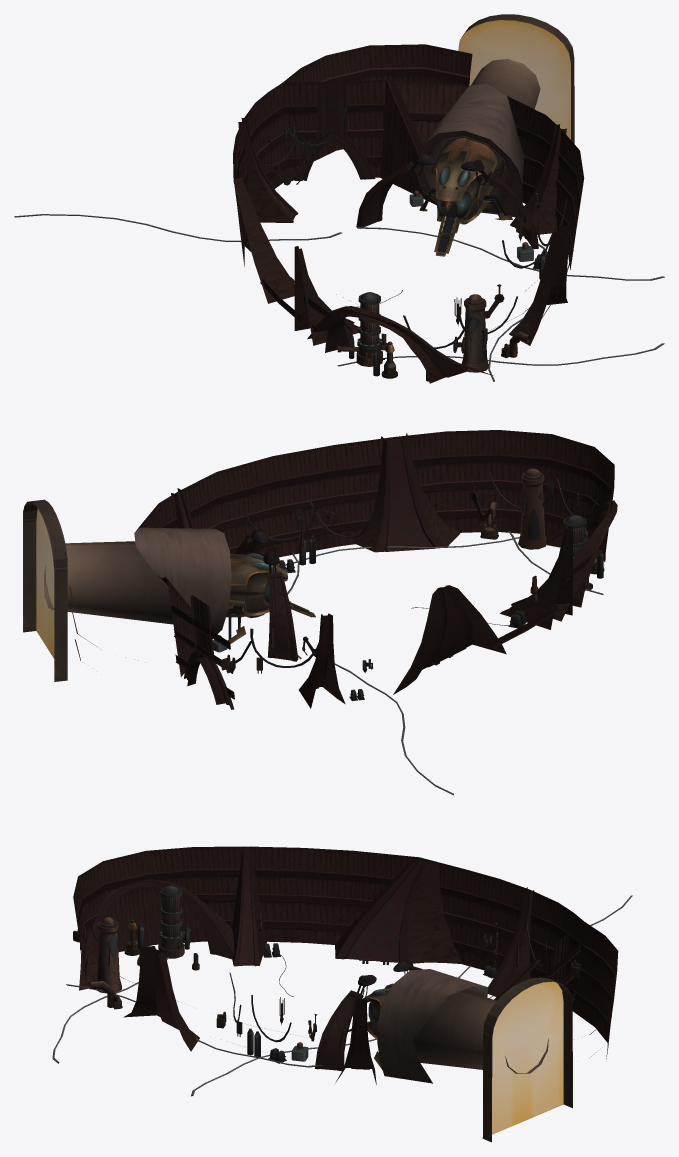
File: env_geo_dooku_hangar_pre.glb
3 renders of one model, top to bottom at view 1: azimuth 30°, elevation 25°; view 2: azimuth 150°, elevation 25°; view 3: azimuth 270°, elevation 25°, orthographic. The views are drawn at different scales.
Parts seen in each view (by area): view 1: geo_dooku_walls_mesh, geo_dooku_tunnel_mesh, cor_jt_archplug_mesh (1), geo_solarsail_back_mesh, env_geo_doo_pillar_01d_mesh, geo_dooku_arch_01_mesh, env_geo_doo_pillar_01b_mesh, geo_dooku_arch_02_mesh, env_geo_doo_pillar_01e_mesh, env_geo_doo_pillar_01a_mesh, env_geo_doo_pillar_01f_mesh, env_geo_doo_pillar_01c_mesh (+6 smaller); view 2: geo_dooku_walls_mesh, geo_dooku_tunnel_mesh, cor_jt_archplug_mesh (1), env_geo_doo_pillar_01e_mesh, env_geo_doo_pillar_01b_mesh, geo_solarsail_back_mesh, geo_dooku_arch_02_mesh, env_geo_doo_pillar_01c_mesh, env_geo_doo_pillar_01d_mesh, geo_dooku_arch_01_mesh, geo_dooku_misc_14_mesh (1) (×2), env_geo_doo_pillar_01a_mesh (+3 smaller); view 3: geo_dooku_walls_mesh, cor_jt_archplug_mesh (1), geo_dooku_tunnel_mesh, env_geo_doo_pillar_01b_mesh, env_geo_doo_pillar_01d_mesh, env_geo_doo_pillar_01e_mesh, env_geo_doo_pillar_01c_mesh, geo_dooku_arch_02_mesh, env_geo_doo_pillar_01a_mesh, geo_dooku_generator_01_mesh, geo_dooku_misc_19_mesh, env_geo_doo_pillar_01f_mesh (+4 smaller).
Part boxes in pixels (box(x1,y1,x2,y2)): geo_dooku_walls_mesh: box(233, 44, 584, 333); geo_dooku_tunnel_mesh: box(414, 59, 540, 217); cor_jt_archplug_mesh (1): box(458, 14, 574, 143); geo_solarsail_back_mesh: box(419, 138, 512, 256); env_geo_doo_pillar_01d_mesh: box(307, 306, 493, 383); geo_dooku_arch_01_mesh: box(292, 82, 375, 180); env_geo_doo_pillar_01b_mesh: box(233, 168, 294, 303); geo_dooku_arch_02_mesh: box(356, 152, 538, 249); env_geo_doo_pillar_01e_mesh: box(509, 225, 570, 345); env_geo_doo_pillar_01a_mesh: box(238, 118, 298, 222); env_geo_doo_pillar_01f_mesh: box(510, 124, 566, 236); env_geo_doo_pillar_01c_mesh: box(294, 246, 358, 345); geo_dooku_walls_mesh: box(69, 430, 614, 699); geo_dooku_tunnel_mesh: box(44, 527, 231, 633); cor_jt_archplug_mesh (1): box(23, 499, 67, 681); env_geo_doo_pillar_01e_mesh: box(356, 433, 460, 552); env_geo_doo_pillar_01b_mesh: box(393, 585, 506, 694); geo_solarsail_back_mesh: box(226, 553, 315, 643); geo_dooku_arch_02_mesh: box(236, 529, 298, 661); env_geo_doo_pillar_01c_mesh: box(500, 526, 573, 629); env_geo_doo_pillar_01d_mesh: box(545, 500, 617, 621); geo_dooku_arch_01_mesh: box(184, 595, 234, 709); geo_dooku_misc_14_mesh (1) (×2): box(244, 471, 598, 556); env_geo_doo_pillar_01a_mesh: box(299, 613, 345, 708); geo_dooku_walls_mesh: box(73, 846, 618, 1058); cor_jt_archplug_mesh (1): box(482, 977, 572, 1142); geo_dooku_tunnel_mesh: box(377, 969, 548, 1083); env_geo_doo_pillar_01b_mesh: box(335, 858, 461, 963); env_geo_doo_pillar_01d_mesh: box(79, 879, 234, 990); env_geo_doo_pillar_01e_mesh: box(123, 946, 199, 1051); env_geo_doo_pillar_01c_mesh: box(232, 847, 267, 966); geo_dooku_arch_02_mesh: box(315, 958, 422, 1071); env_geo_doo_pillar_01a_mesh: box(487, 887, 534, 996); geo_dooku_generator_01_mesh: box(158, 885, 190, 958); geo_dooku_misc_19_mesh: box(96, 917, 121, 993); env_geo_doo_pillar_01f_mesh: box(335, 998, 376, 1084).
Bounding box in the file's own units: 69.43 × 19.51 × 82.19.
Materials: 17 (17 with a texture image).
